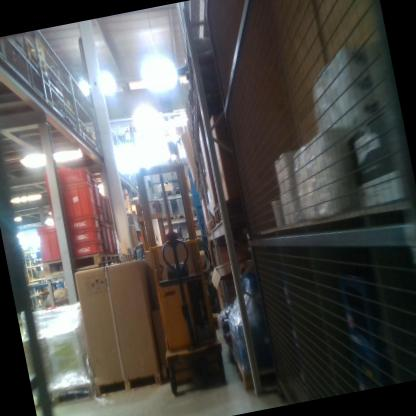pallet: (93, 368, 164, 401), (41, 248, 113, 278), (234, 349, 277, 389), (48, 380, 95, 407), (211, 196, 246, 227), (206, 212, 217, 233), (159, 188, 174, 199), (161, 213, 176, 223), (110, 252, 120, 262), (172, 187, 182, 196), (176, 212, 187, 220)
pallet_truck: (130, 153, 230, 395)
